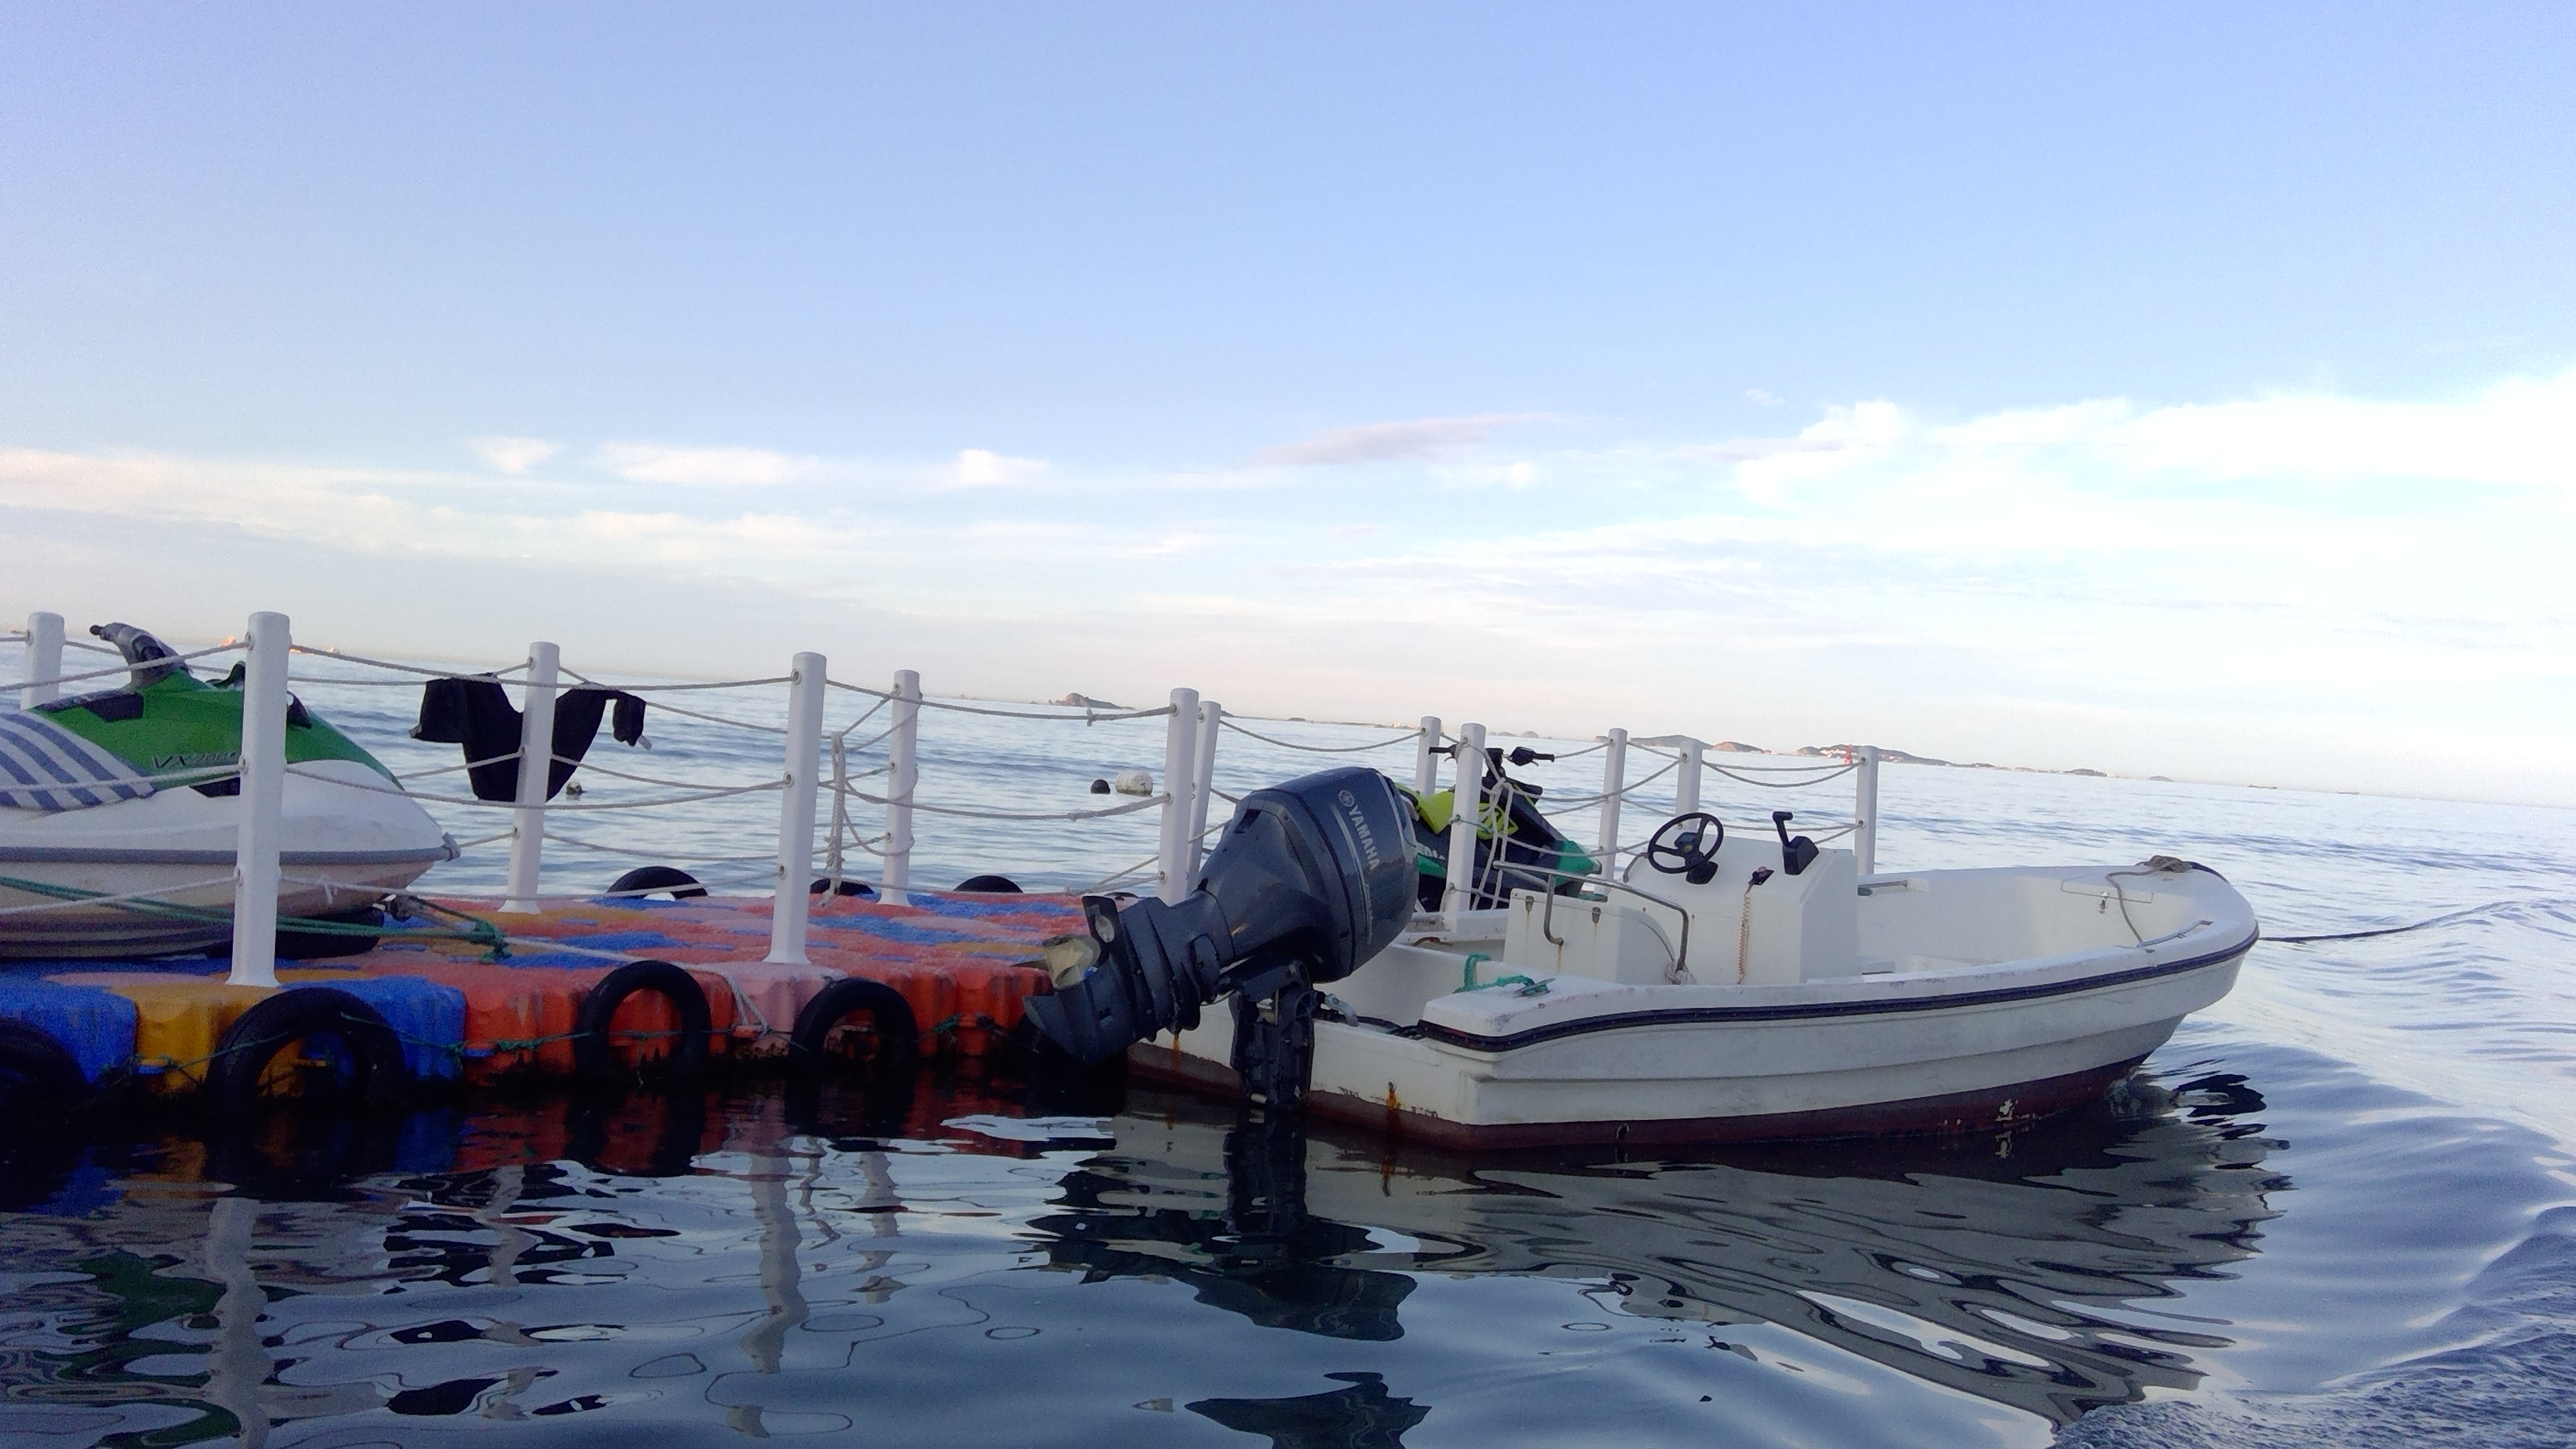boat: (1192, 759, 2261, 1132), (0, 610, 476, 970)
platform: (0, 706, 1470, 1086)
